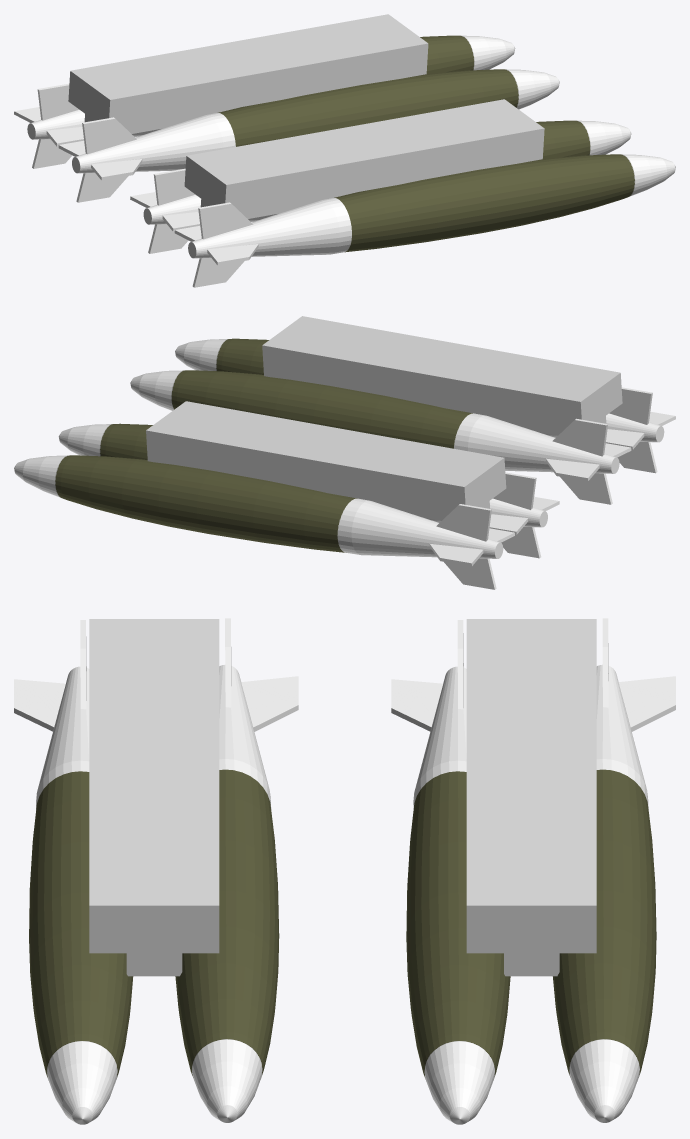
File: f14bgbu3816.glb
3 views of the same model, one above another, from view 1: azimuth 30°, elevation 25°; view 2: azimuth 150°, elevation 25°; view 3: azimuth 270°, elevation 25° (orthographic). The views are drawn at different scales.
Visible parts, largest first — view 1: 円柱.007, 立方体.002, 立方体.004, 円柱.008, 円柱.006, 円柱.005; view 2: 円柱.005, 立方体.002, 立方体.004, 円柱.006, 円柱.007, 円柱.008; view 3: 立方体.002, 立方体.004, 円柱.007, 円柱.008, 円柱.005, 円柱.006.
Part boxes in pixels (box(x1,y1,x2,y2)): 円柱.007: box(174, 154, 675, 287); 立方体.002: box(184, 99, 544, 218); 立方体.004: box(68, 14, 428, 133); 円柱.008: box(58, 69, 559, 202); 円柱.006: box(130, 120, 631, 253); 円柱.005: box(14, 35, 515, 168); 円柱.005: box(14, 455, 514, 589); 立方体.002: box(262, 316, 622, 435); 立方体.004: box(146, 401, 506, 520); 円柱.006: box(130, 370, 631, 504); 円柱.007: box(175, 338, 675, 473); 円柱.008: box(58, 423, 559, 558); 立方体.002: box(89, 619, 219, 976); 立方体.004: box(466, 619, 596, 976); 円柱.007: box(14, 620, 133, 1124); 円柱.008: box(391, 620, 510, 1124); 円柱.005: box(553, 618, 675, 1122); 円柱.006: box(175, 618, 298, 1122).
Bounding box in the file's own units: 2.41 × 0.5122 × 1.76.
4 materials, 1 textured.
